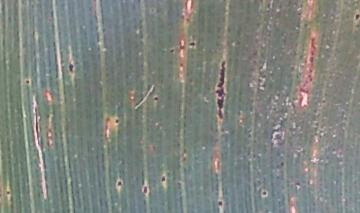tarspot: (215, 54, 227, 123), (65, 61, 79, 74), (157, 172, 170, 184), (140, 183, 152, 195), (114, 177, 125, 190), (214, 198, 227, 209), (3, 186, 14, 198), (22, 77, 35, 87), (111, 116, 124, 126), (187, 38, 197, 50), (151, 92, 161, 104), (168, 45, 177, 58), (259, 187, 269, 198), (278, 159, 288, 169), (352, 11, 360, 22)
